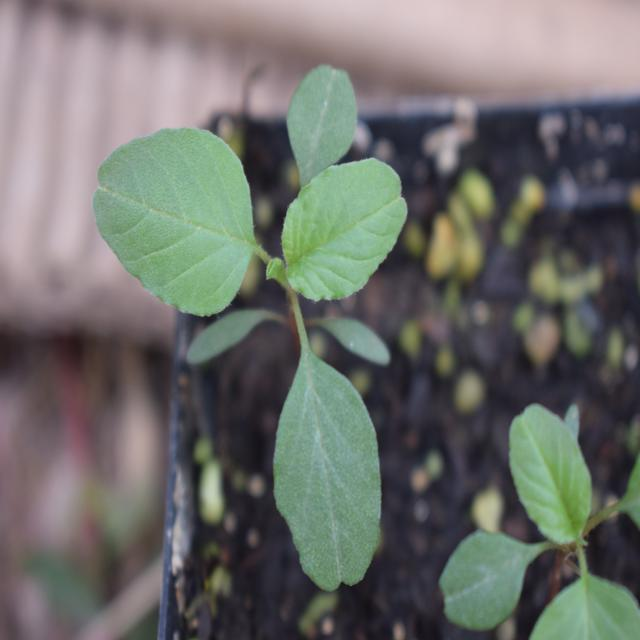pigweed: (87, 82, 420, 591)
